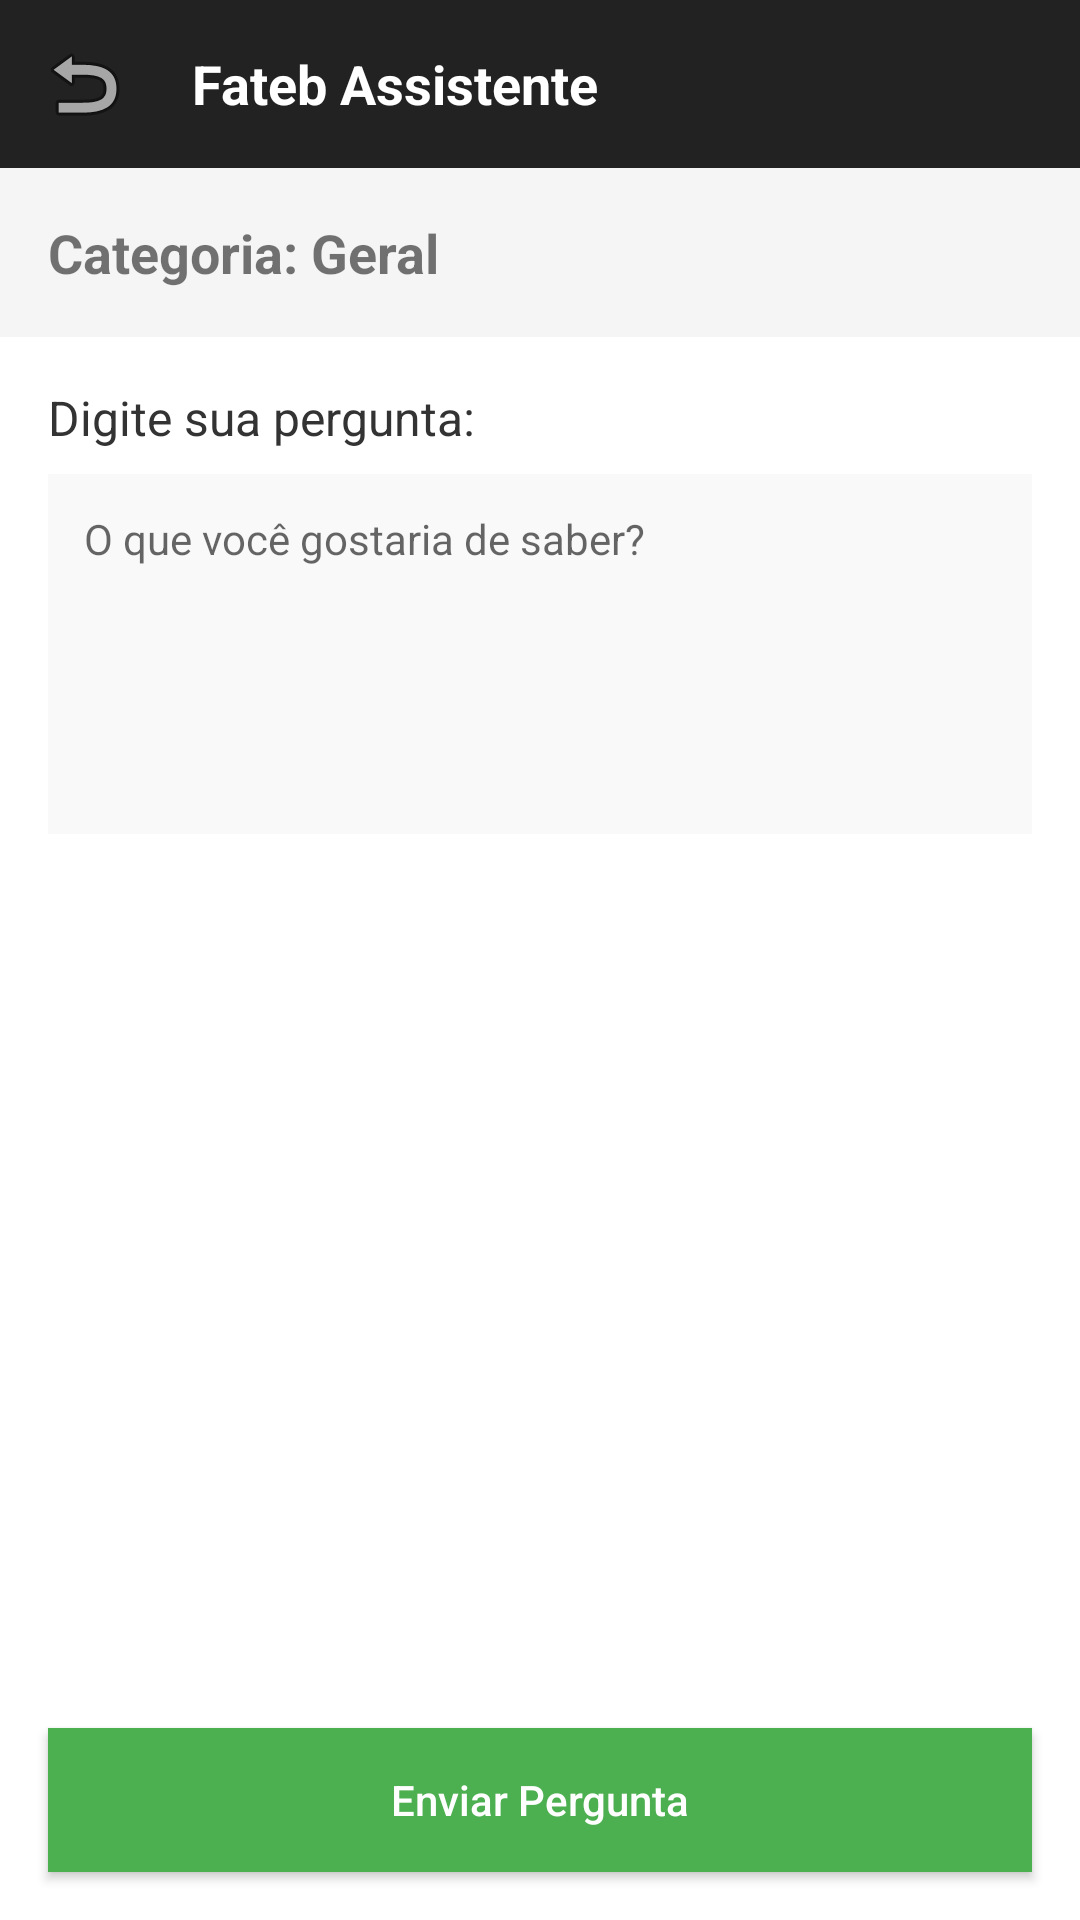

Locate icon controls on the screen. Image size 1080*1920, boxes as box=[x1, y1, x2, y2].
Voltar: box=[54, 56, 117, 113]
